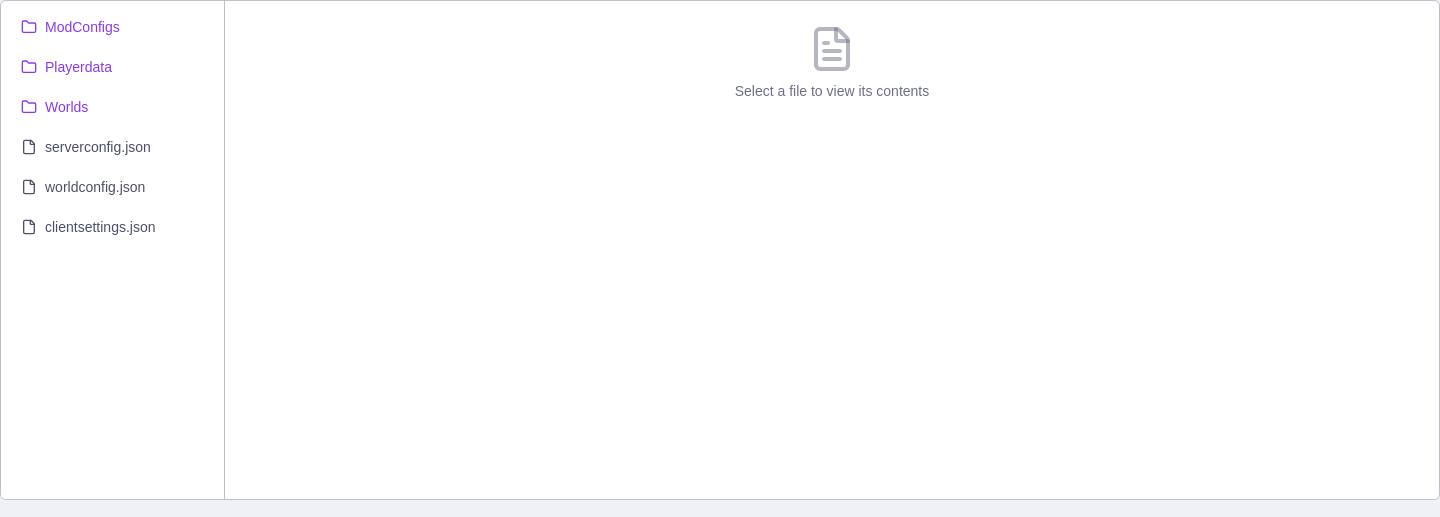
it: FileManagerPanel › directory navigation (Story 9.7) › clears file selection when navigating back
The image size is (1440, 517).
Expected: the element with test id "file-list" is shown, [9,9,216,245]
Navigate into directory
Click the option with test id "file-item-ModConfigs".
click(112, 27)  # box [9,9,216,45]
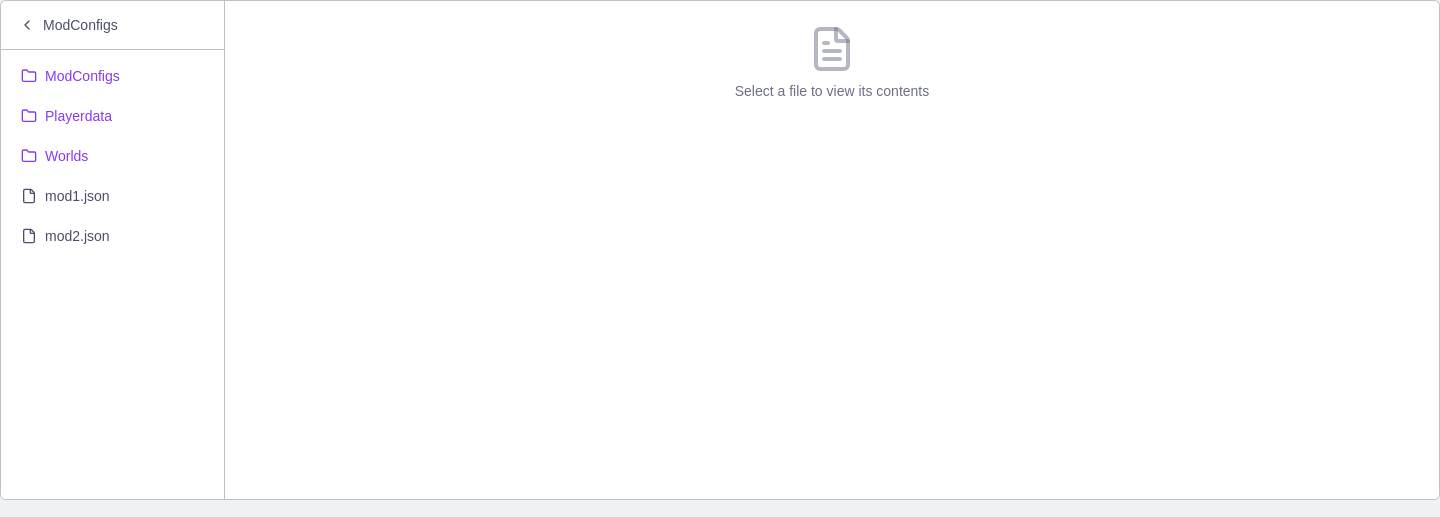
Expected: the element with test id "file-list" is shown, [9,58,216,254]
Select a file in the subdirectory
Click the option with test id "file-item-mod1.json".
click(112, 196)  # box [9,178,216,214]
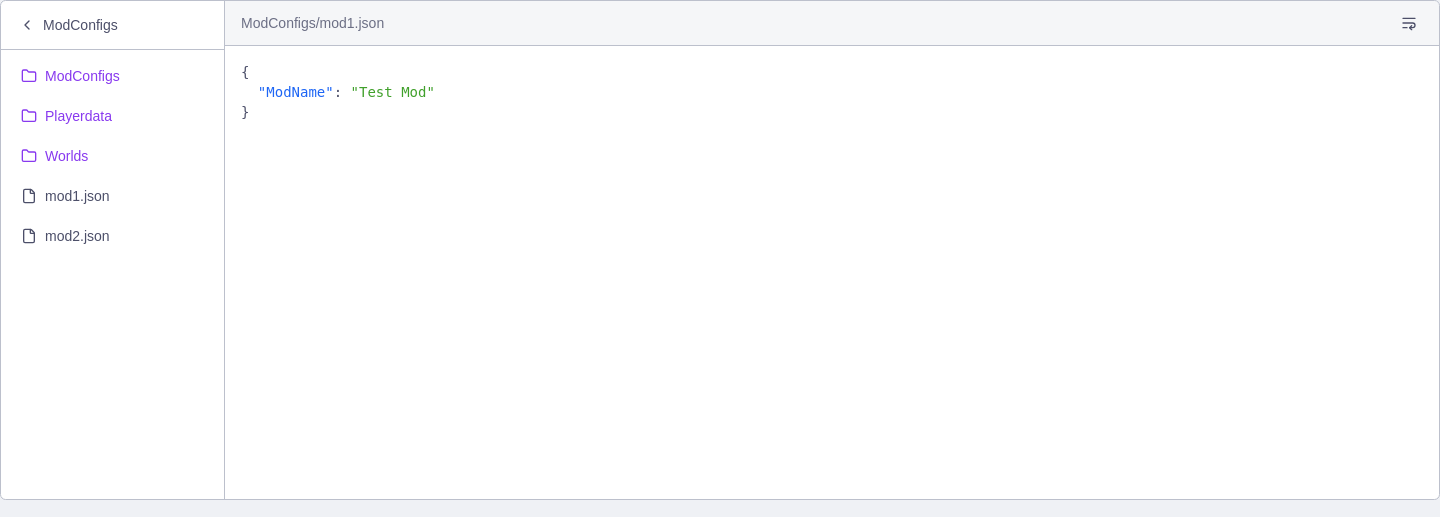
Expected: the element with test id "file-viewer-content" shows "ModName", [258,84,334,100]
Navigate back
Click the button with test id "file-manager-back".
click(112, 25)  # box [9,9,216,41]
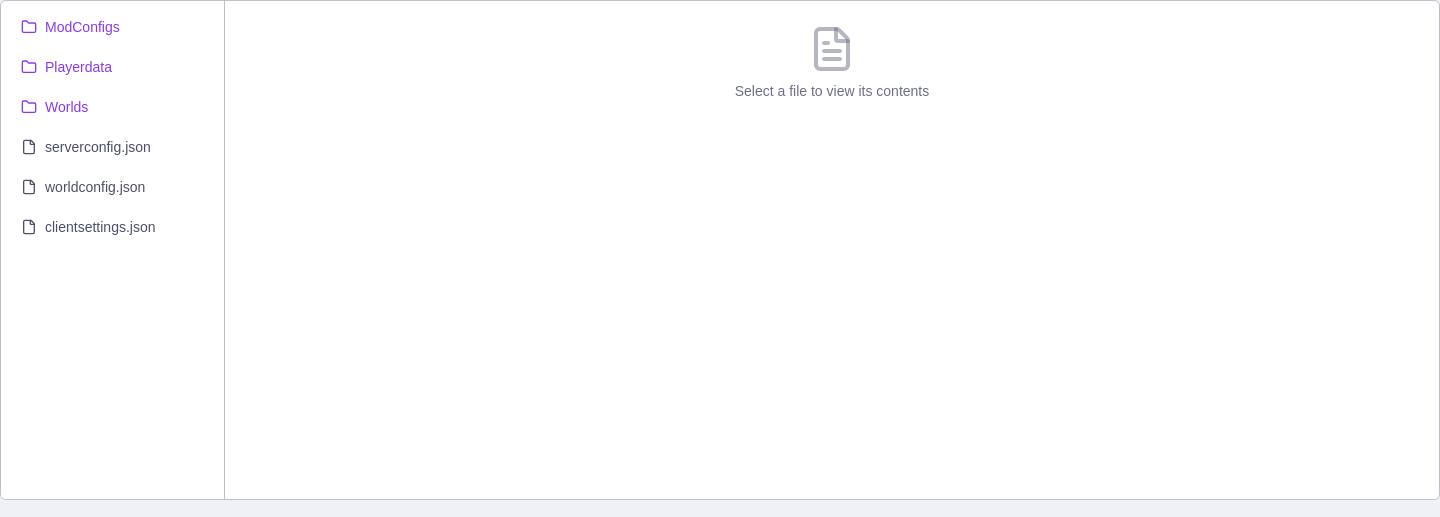
Expected: the element with test id "file-viewer-empty" is shown, [735,25,929,99]
